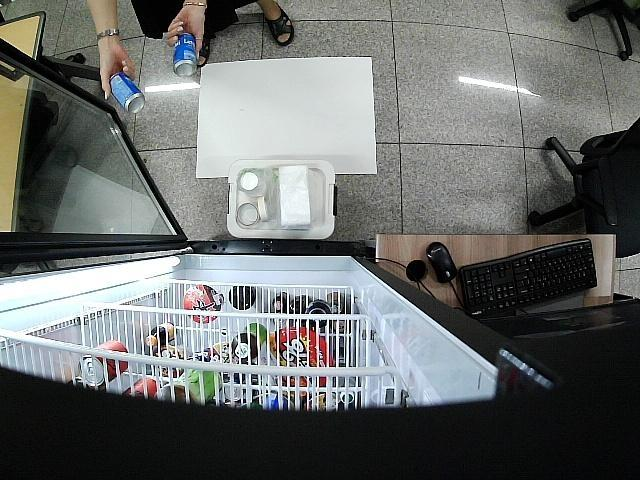15_letsbe: (109, 72, 144, 114), (172, 30, 198, 77)
